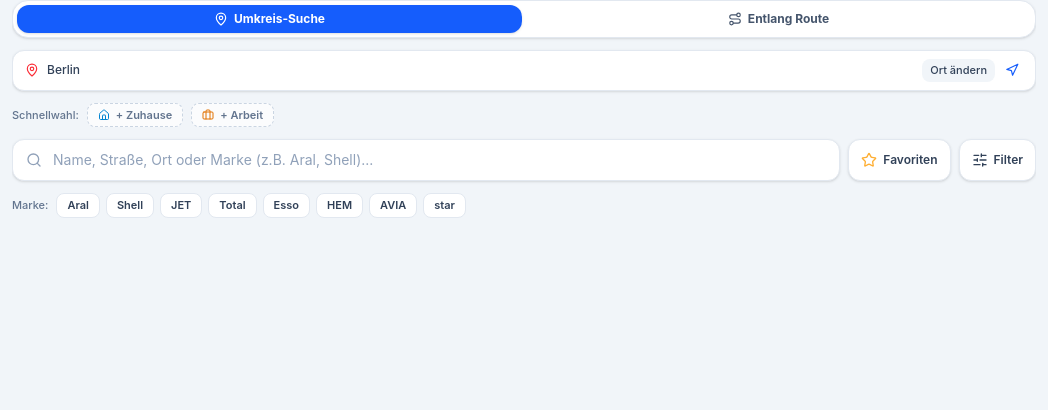
Test: Extended Component Coverage › SearchAndFilters debounces radius slider, saves/clears quick locations, and swaps route endpoints
Later steps or results of the test are not shown.
Click the button titled "Filter & Radius anpassen" at (997, 160), box x1=958 y1=139 x2=1036 y2=181
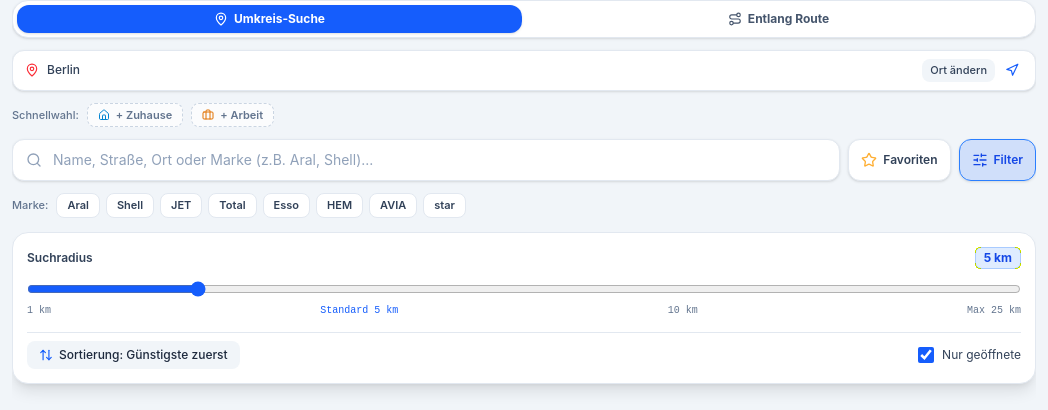
Set the slider labelled "Suchradius" to "10" at (402, 289), box x1=27 y1=285 x2=1021 y2=293
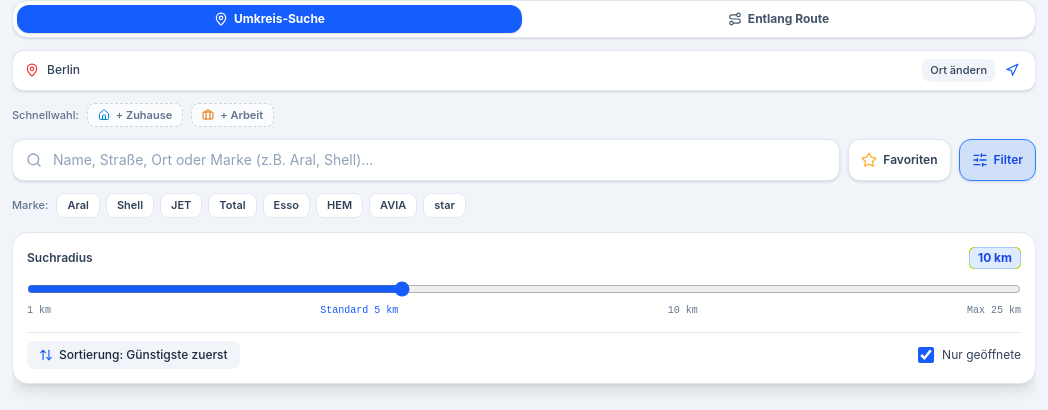
Set the slider labelled "Suchradius" to "15" at (606, 289), box x1=27 y1=285 x2=1021 y2=293
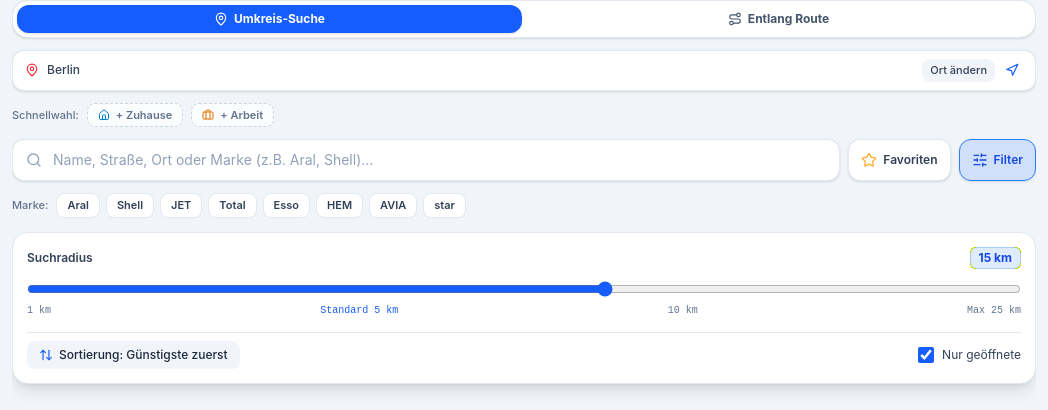
Set the slider labelled "Suchradius" to "20" at (809, 289), box x1=27 y1=285 x2=1021 y2=293
Wait 310 ms
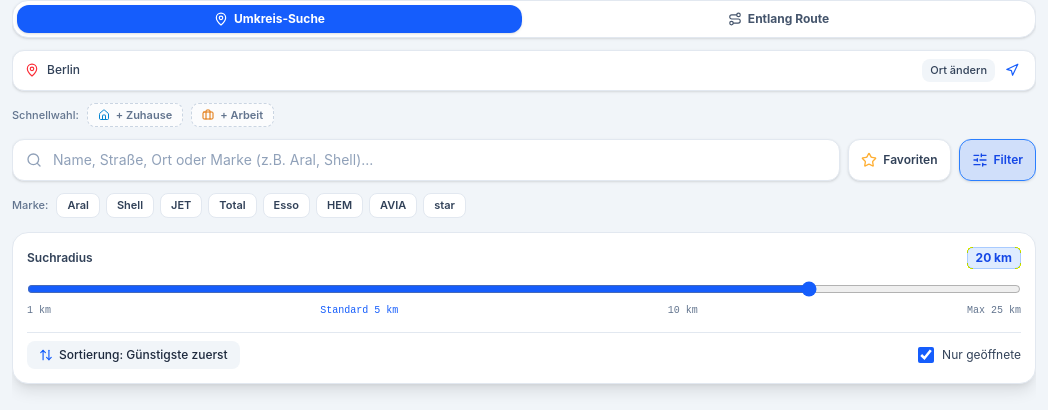
Click the button "+ Zuhause" at (135, 115), box x1=87 y1=103 x2=183 y2=127
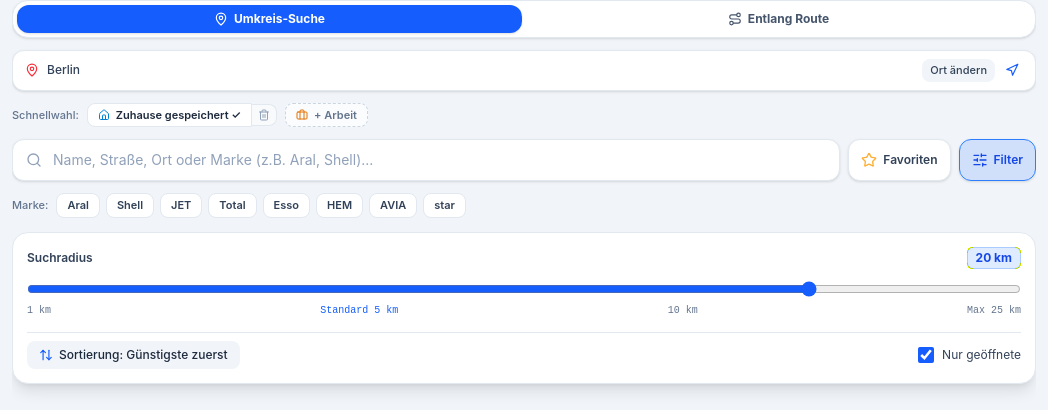
Check: the text "Zuhause gespeichert ✓" is shown, box x1=116 y1=108 x2=241 y2=122
Click the button named "Zuhause-Speicherpunkt löschen" at (265, 115), box x1=252 y1=104 x2=277 y2=126
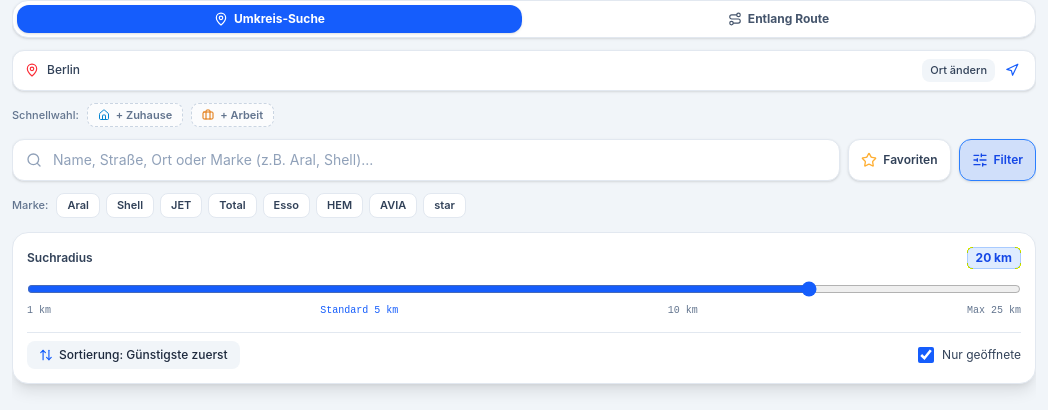
Check: the text "+ Zuhause" is shown, box x1=116 y1=108 x2=172 y2=122
